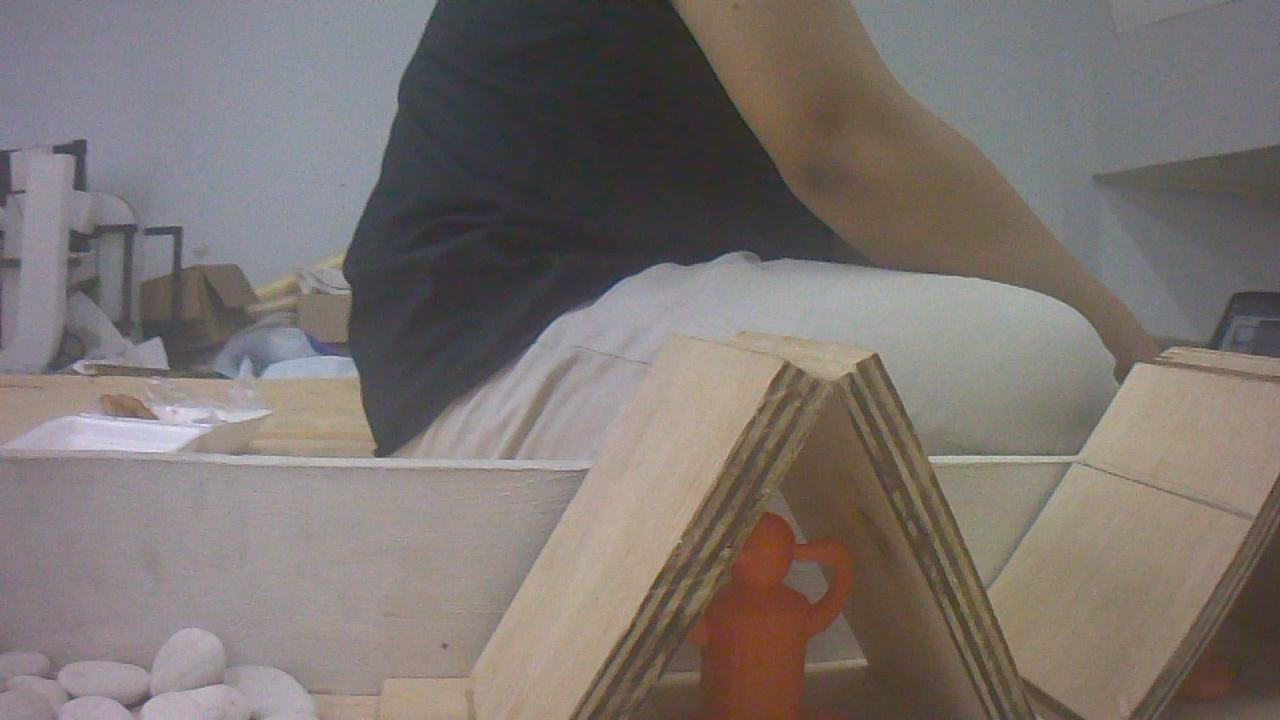real: (665, 513, 871, 720)
